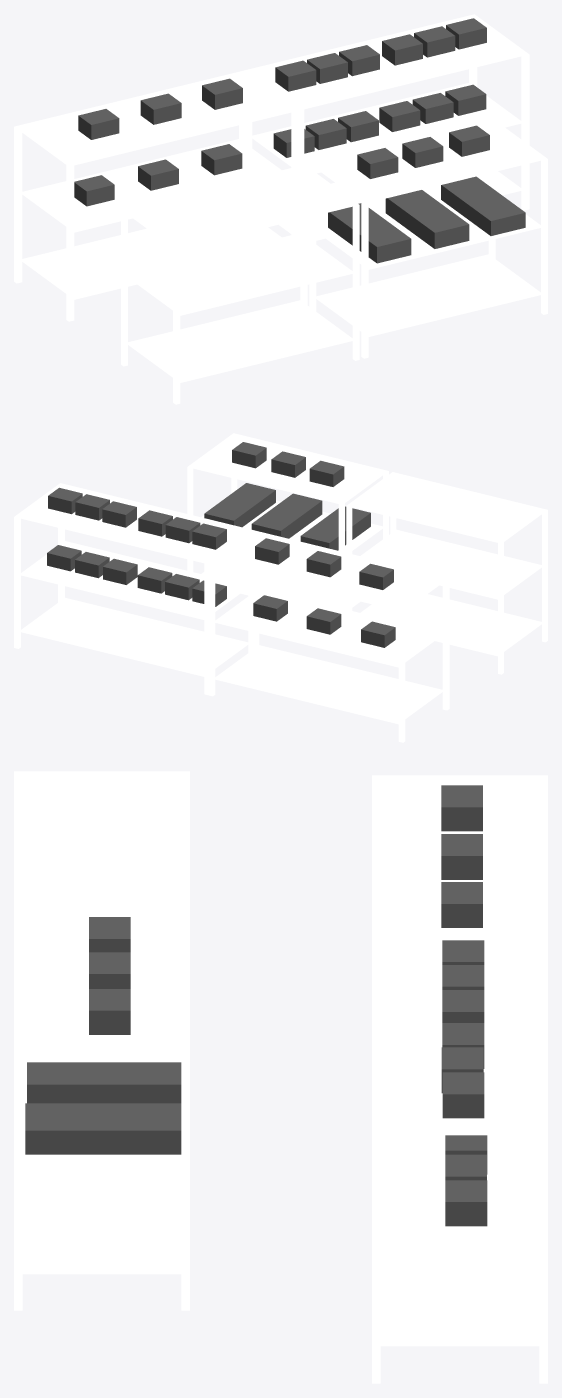
3 renders of one model, top to bottom at view 1: azimuth 30°, elevation 25°; view 2: azimuth 150°, elevation 25°; view 3: azimuth 270°, elevation 25°, orthographic. The views are drawn at different scales.
Parts seen in each view (by area): view 1: table (×4), CardboardBox_LP (×24); view 2: table (×4), CardboardBox_LP (×24); view 3: table (×4), CardboardBox_LP (×17).
Part boxes in pixels (box(x1,y1,x2,y2)): table (×4): box(14, 14, 547, 404); CardboardBox_LP (×24): box(74, 18, 525, 263); table (×4): box(14, 433, 547, 742); CardboardBox_LP (×24): box(47, 442, 395, 647); table (×4): box(14, 771, 547, 1383); CardboardBox_LP (×17): box(25, 785, 487, 1226).
Bounding box in the file's own units: 6.29 × 2.2 × 3.9.
7 materials, 1 textured.
